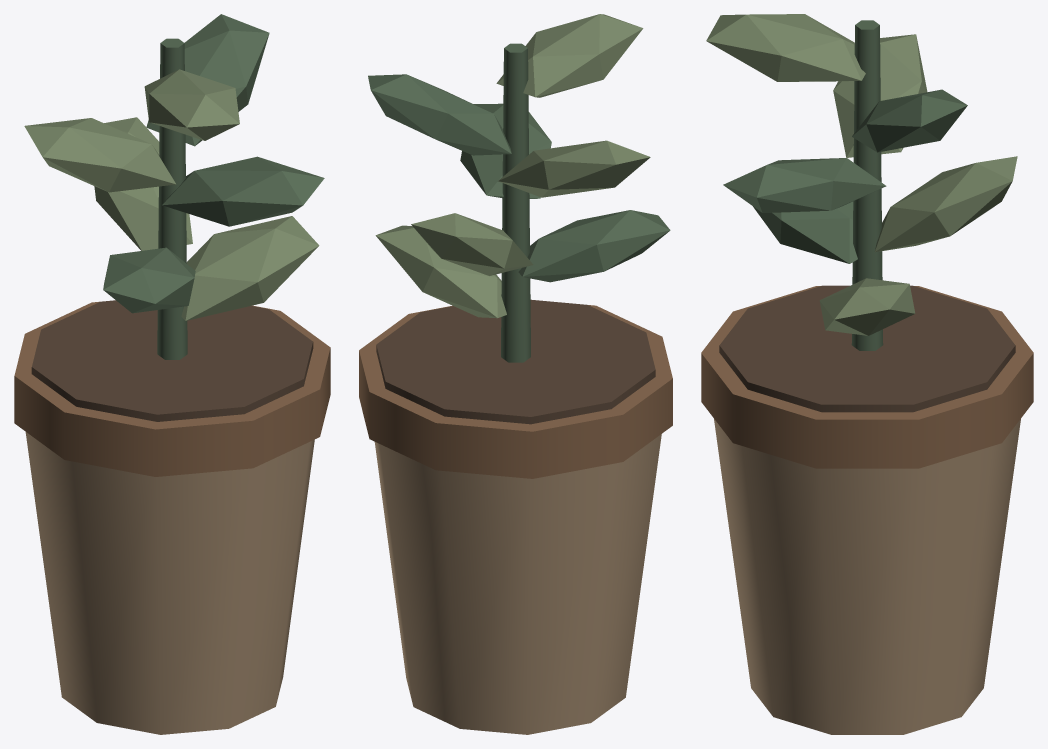
Rendered from plant.glb.
3 views of the same model, side by side, from view 1: azimuth 30°, elevation 25°; view 2: azimuth 150°, elevation 25°; view 3: azimuth 270°, elevation 25° (orthographic). The views are drawn at different scales.
Bounding box in the file's own units: 0.3804 × 0.88 × 0.4.
